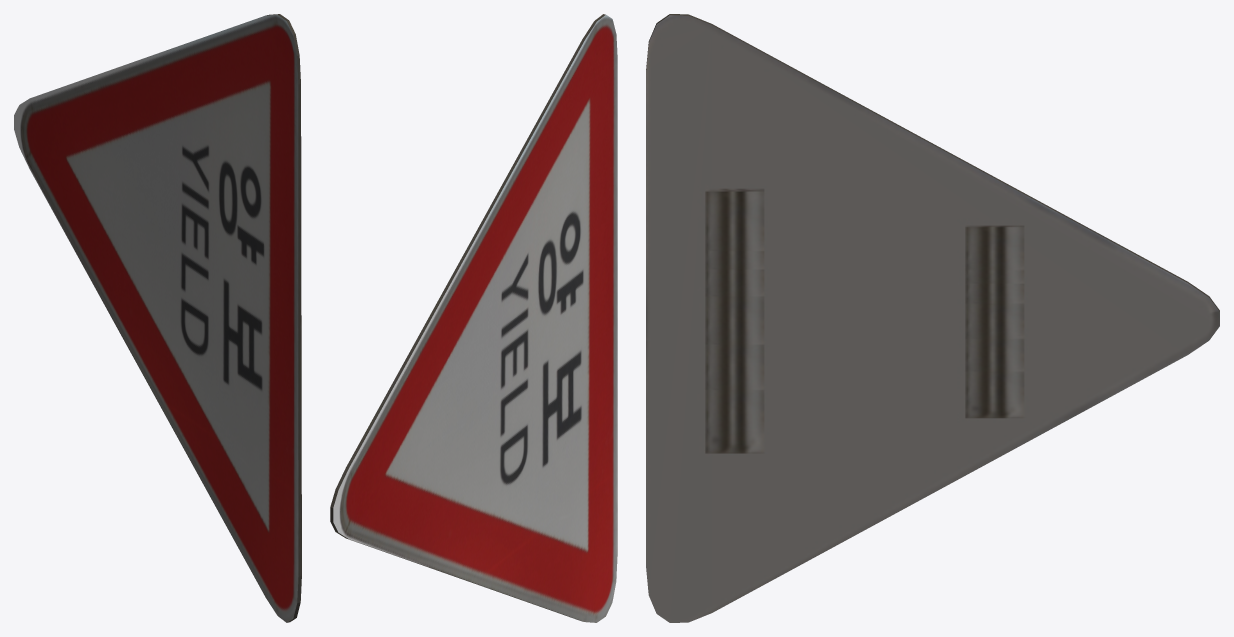
The model's file is RTA0201220727_0042L_02_normalization.obj.
The picture shows the model from 3 angles, left to right: view 1: azimuth 30°, elevation 25°; view 2: azimuth 150°, elevation 25°; view 3: azimuth 270°, elevation 25°; orthographic projection.
Parts seen in each view (by area): view 1: RTA0201220727_0042S_02; view 2: RTA0201220727_0042S_02; view 3: RTA0201220727_0042S_02.
Boxes of the visible parts, <box> form: RTA0201220727_0042S_02: <box>14,14,301,622</box>; RTA0201220727_0042S_02: <box>330,14,617,622</box>; RTA0201220727_0042S_02: <box>646,14,1219,622</box>.
Bounding box in the file's own units: 0.00484 × 0.7595 × 0.6505.
Materials: 1 (1 with a texture image).
